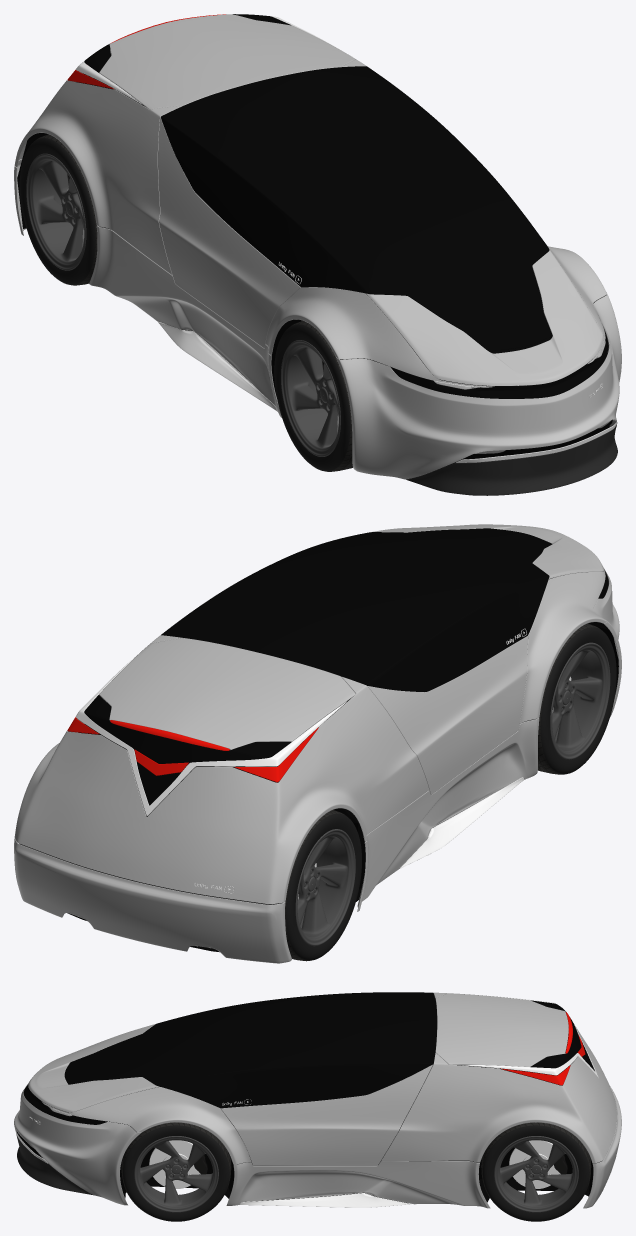
Rendered from free_concept_car_038_-_public_domain_cc0.glb.
3 views of the same model, one above another, from view 1: azimuth 30°, elevation 25°; view 2: azimuth 150°, elevation 25°; view 3: azimuth 270°, elevation 25° (orthographic). The views are drawn at different scales.
Visible parts, largest first — view 1: Cube.032, Cube.038, Cube.041, Cube.042, Cube.040, Cube.035, Cube.033, Cube.044, Cube.034, Plane.008, Plane.009, Cube.031 (+6 smaller); view 2: Cube.032, Cube.042, Cube.041, Cube.043, Cube.040, Cube.044, Cube.033, Plane.008, Plane.009, Cube.020, Mesh5.003_rubber___tires.001_0, Mesh5.002_rubber___tires.001_0 (+6 smaller); view 3: Cube.032, Cube.042, Cube.040, Cube.044, Cube.041, Cube.038, Cube.033, Cube.035, Plane.007, Plane.001, Mesh5.001_rubber___tires.001_0, Mesh5.004_rubber___tires.001_0 (+12 smaller).
Boxes of the visible parts, x1,y1,x2,y2 form: Cube.032: (84,14,552,351); Cube.038: (336,294,621,479); Cube.041: (99,14,355,109); Cube.042: (14,53,366,275); Cube.040: (158,117,300,348); Cube.035: (366,249,604,385); Cube.033: (265,246,606,387); Cube.044: (89,225,281,417); Cube.034: (406,425,617,495); Plane.008: (26,153,86,270); Plane.009: (281,340,340,456); Cube.031: (391,326,616,458); Cube.032: (84,528,552,763); Cube.042: (14,635,429,904); Cube.041: (99,638,355,749); Cube.043: (14,838,291,963); Cube.040: (367,636,528,794); Cube.044: (357,717,539,911); Cube.033: (520,565,606,723); Plane.008: (295,829,355,946); Plane.009: (550,642,610,759); Cube.020: (75,652,524,868); Mesh5.003_rubber___tires.001_0: (540,627,616,774); Mesh5.002_rubber___tires.001_0: (286,813,361,960); Cube.032: (65,992,581,1107); Cube.042: (381,992,616,1163); Cube.040: (221,1064,432,1165); Cube.044: (226,1161,490,1208); Cube.041: (435,993,568,1066); Cube.038: (14,1085,141,1205); Cube.033: (41,1087,251,1164); Cube.035: (28,1024,159,1112); Plane.007: (494,1136,578,1212); Plane.001: (134,1136,218,1212); Mesh5.001_rubber___tires.001_0: (483,1125,589,1221); Mesh5.004_rubber___tires.001_0: (123,1125,229,1221).
Bounding box in the file's own units: 138 × 107 × 380.
Materials: 15 (1 with a texture image).
